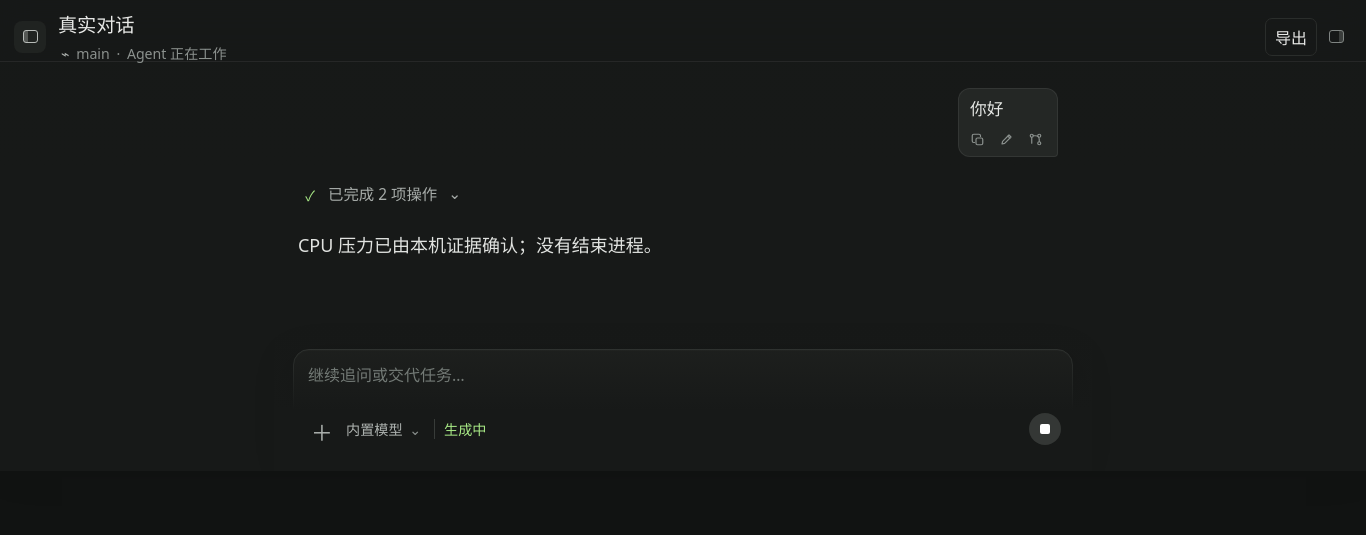
conversation timeline projection › renders bounded CPU pressure evidence without command lines or paths
The image size is (1366, 535).
Click the button "✓ 已完成 2 项操作 ⌄": (384, 194) [299,177,468,210]
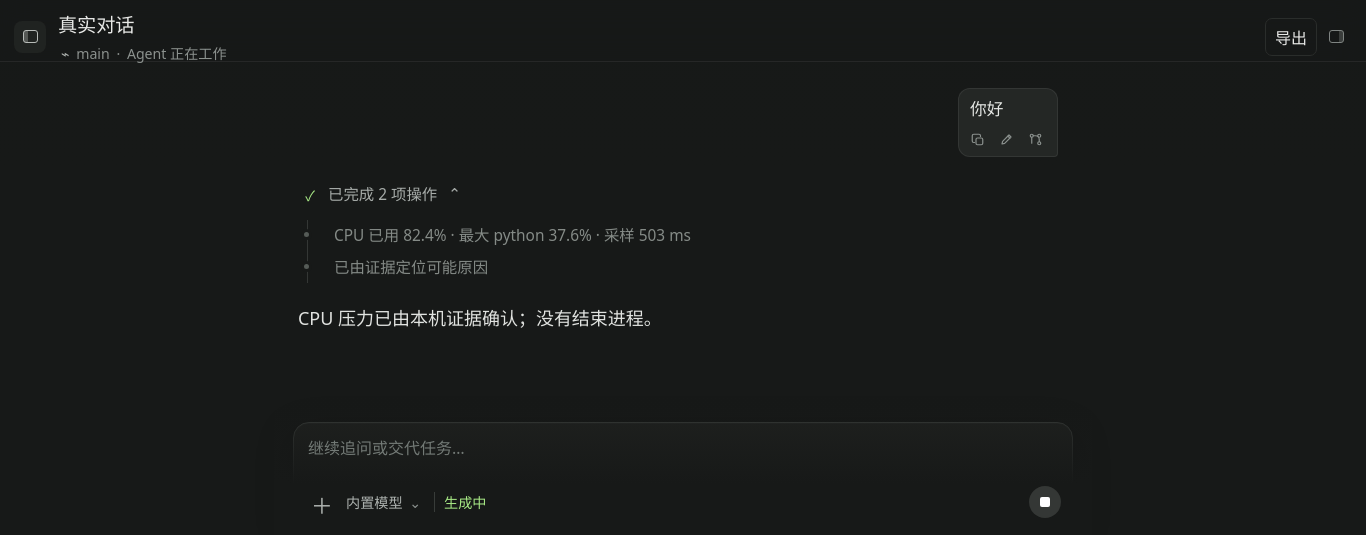
Expected: the text "CPU 已用 82.4% · 最大 python 37.6% · 采样 503 ms" is shown, [334,225,691,246]
